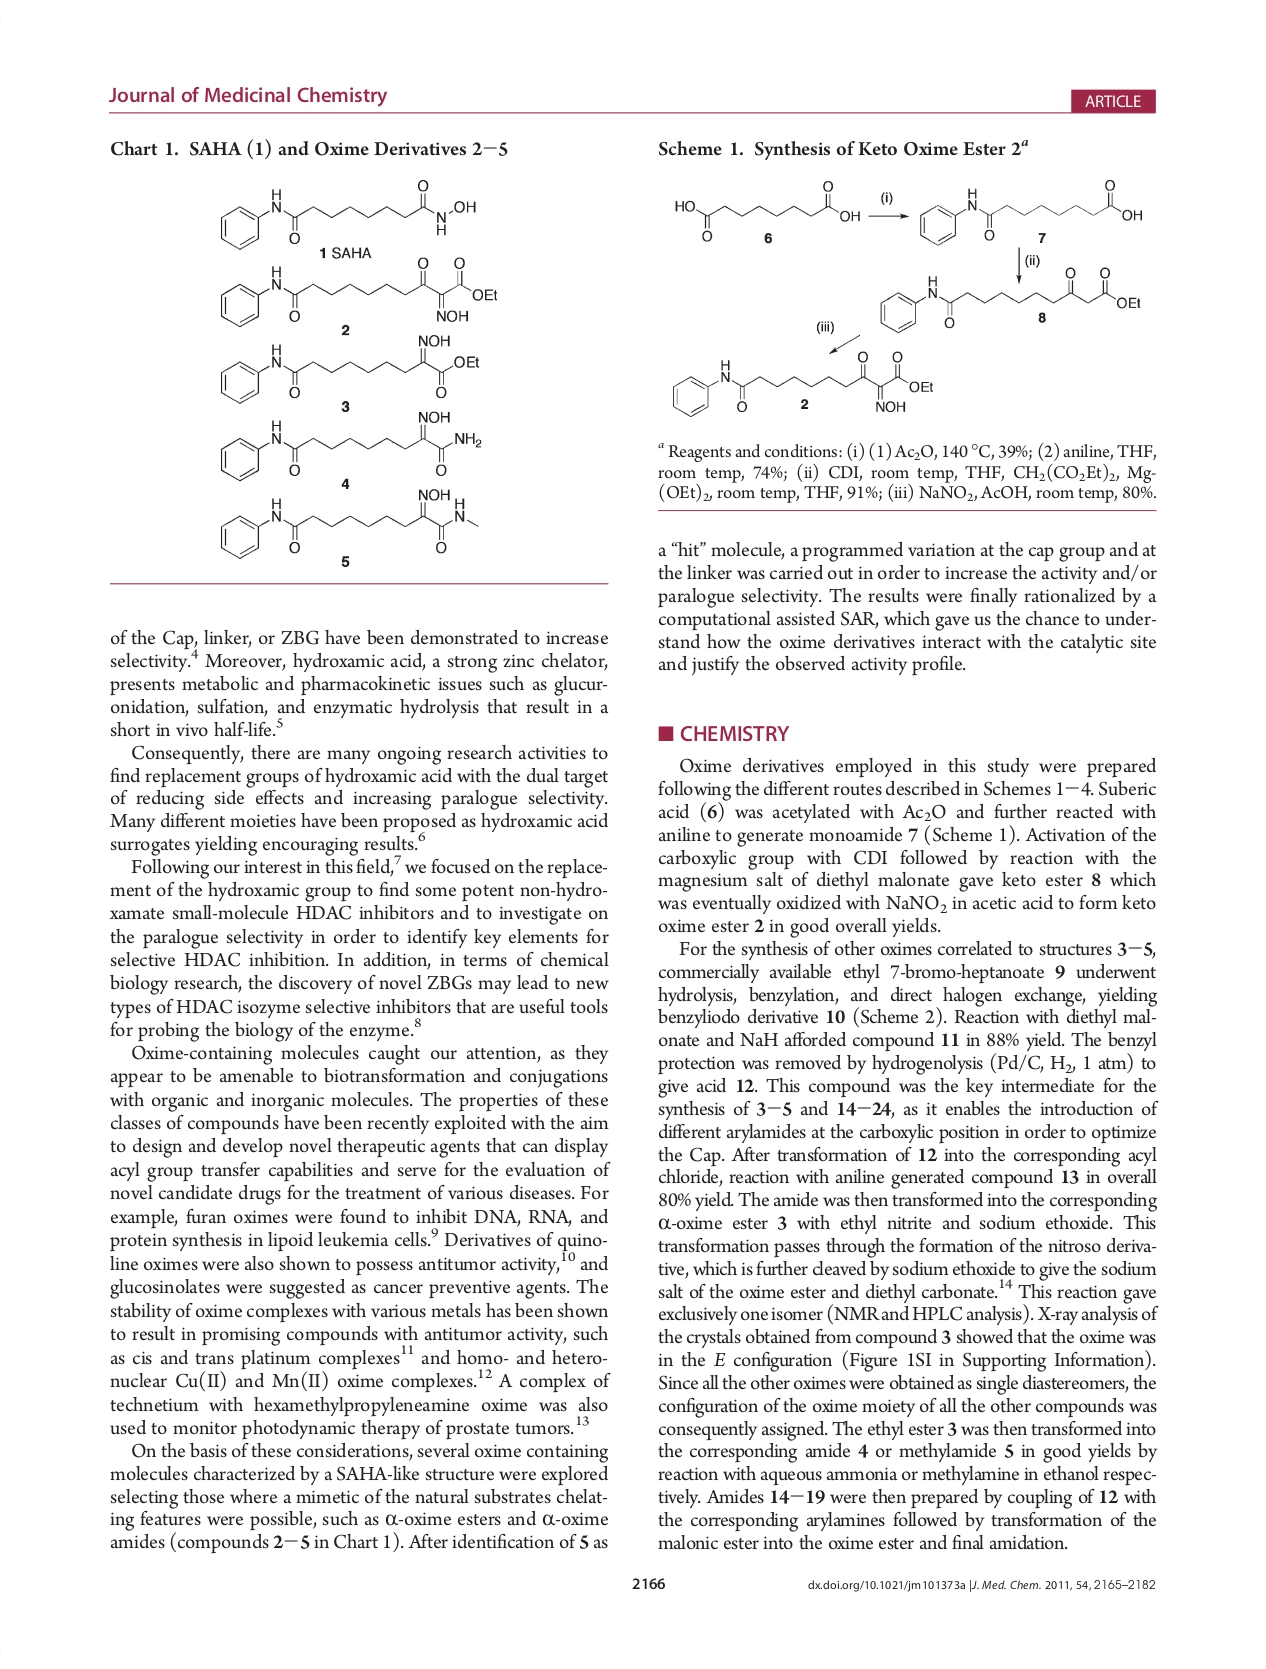exist_molecular: (217, 253, 500, 327), (214, 174, 477, 251), (215, 408, 483, 484), (215, 485, 481, 561), (665, 348, 938, 420), (218, 332, 484, 406), (875, 266, 1145, 335), (915, 176, 1148, 246), (664, 178, 864, 246)
